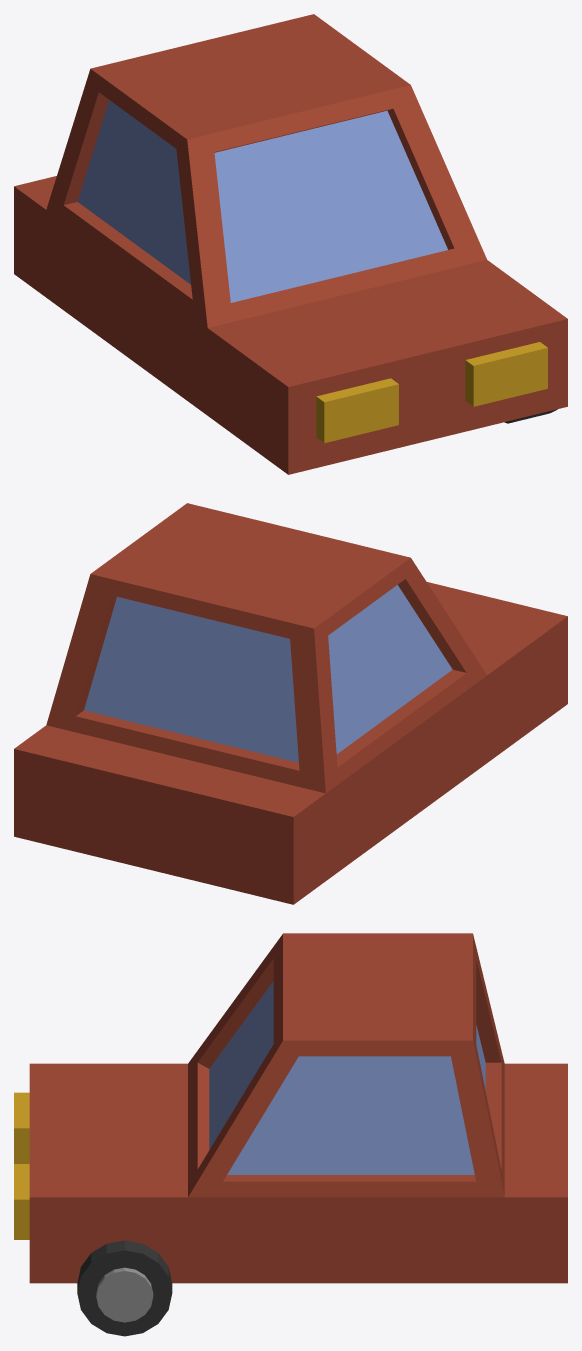
The model's file is Car.fbx.
3 renders of one model, top to bottom at view 1: azimuth 30°, elevation 25°; view 2: azimuth 150°, elevation 25°; view 3: azimuth 270°, elevation 25°, orthographic.
Parts seen in each view (by area): view 1: CarBody; view 2: CarBody; view 3: CarBody, Wheel.
Part boxes in pixels (x1,y1,x2,y2): CarBody: [14, 14, 567, 474]; CarBody: [14, 503, 567, 904]; CarBody: [14, 933, 567, 1283]; Wheel: [77, 1240, 172, 1336].
Bounding box in the file's own units: 220 × 190 × 350.
